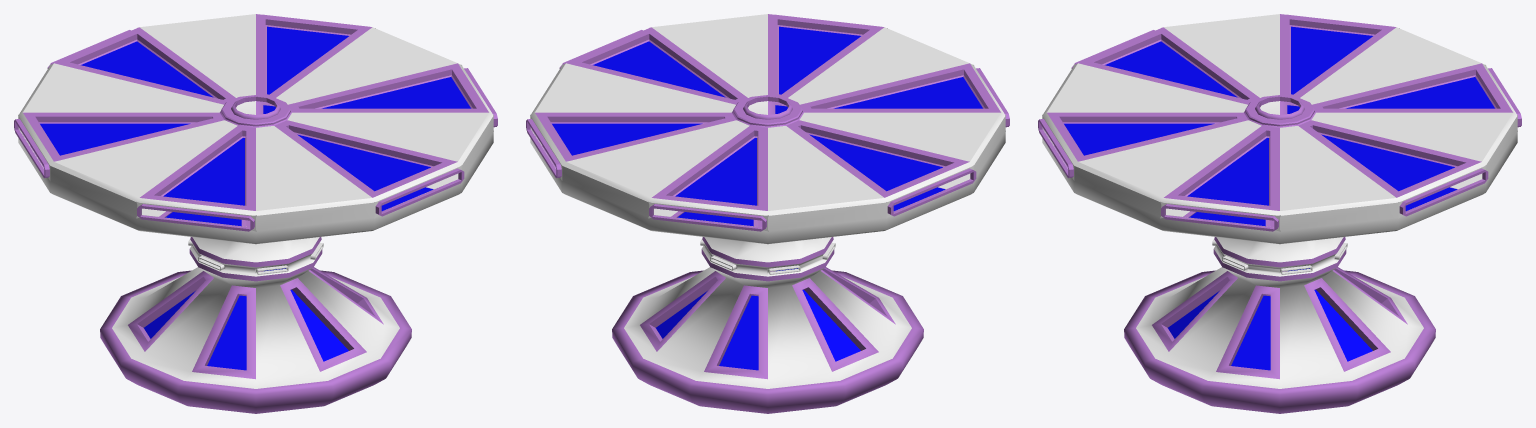
The model's file is tableCoffeeGlassSquare.glb.
3 views of the same model, side by side, from view 1: azimuth 30°, elevation 25°; view 2: azimuth 150°, elevation 25°; view 3: azimuth 270°, elevation 25° (orthographic).
Visible parts, largest first — view 1: tableCoffeeGlassSquare; view 2: tableCoffeeGlassSquare; view 3: tableCoffeeGlassSquare.
Part boxes in pixels (x1,y1,x2,y2): tableCoffeeGlassSquare: (14, 14, 497, 413); tableCoffeeGlassSquare: (526, 14, 1009, 413); tableCoffeeGlassSquare: (1038, 14, 1521, 413).
Size of the model in its own units: 0.9801 by 0.5596 by 0.9801.
